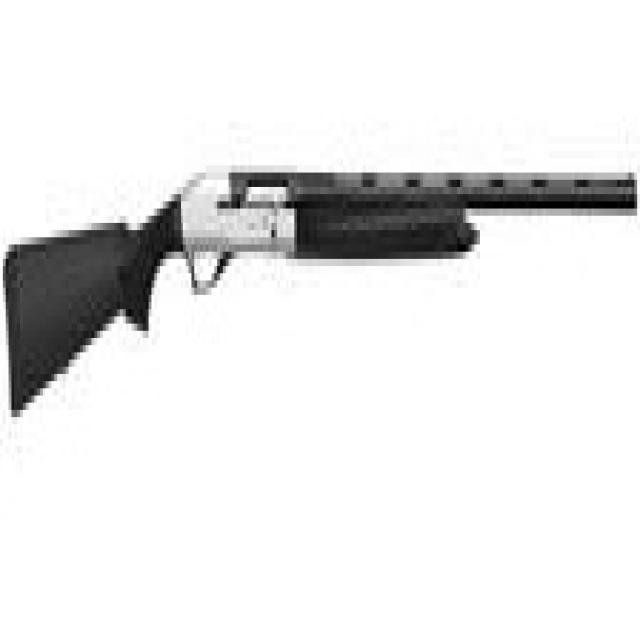rifle: (1, 112, 640, 445)
